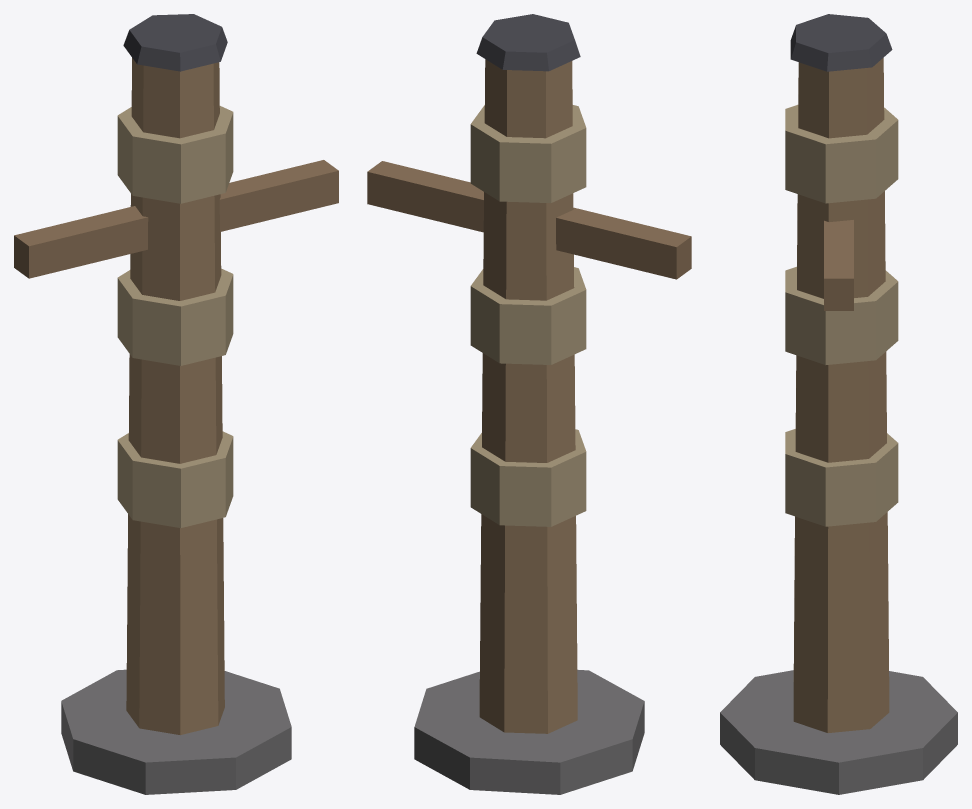
Rendered from training_post.glb.
3 renders of one model, left to right at view 1: azimuth 30°, elevation 25°; view 2: azimuth 150°, elevation 25°; view 3: azimuth 270°, elevation 25°, orthographic.
Visible parts, largest first — view 1: training_post; view 2: training_post; view 3: training_post.
Part boxes in pixels (box(x1,y1,x2,y2)): training_post: box(14, 14, 338, 794); training_post: box(367, 14, 691, 794); training_post: box(720, 14, 957, 794).
Bounding box in the file's own units: 1.2 × 2.64 × 0.8.
